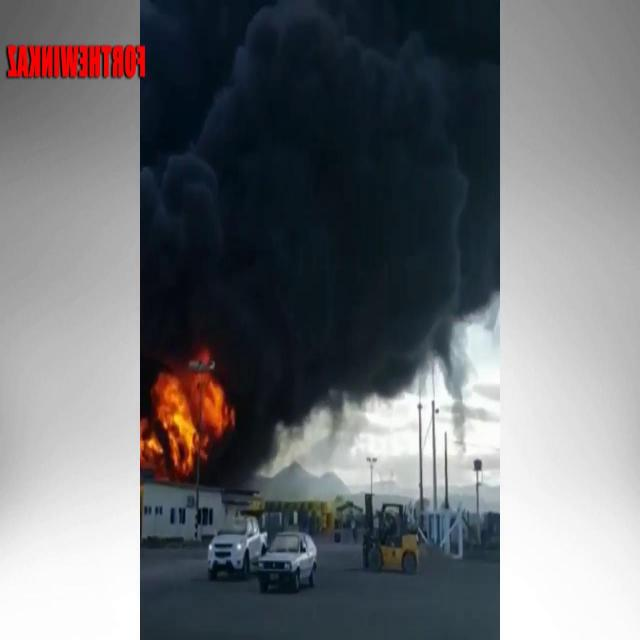fire: (142, 338, 240, 488)
